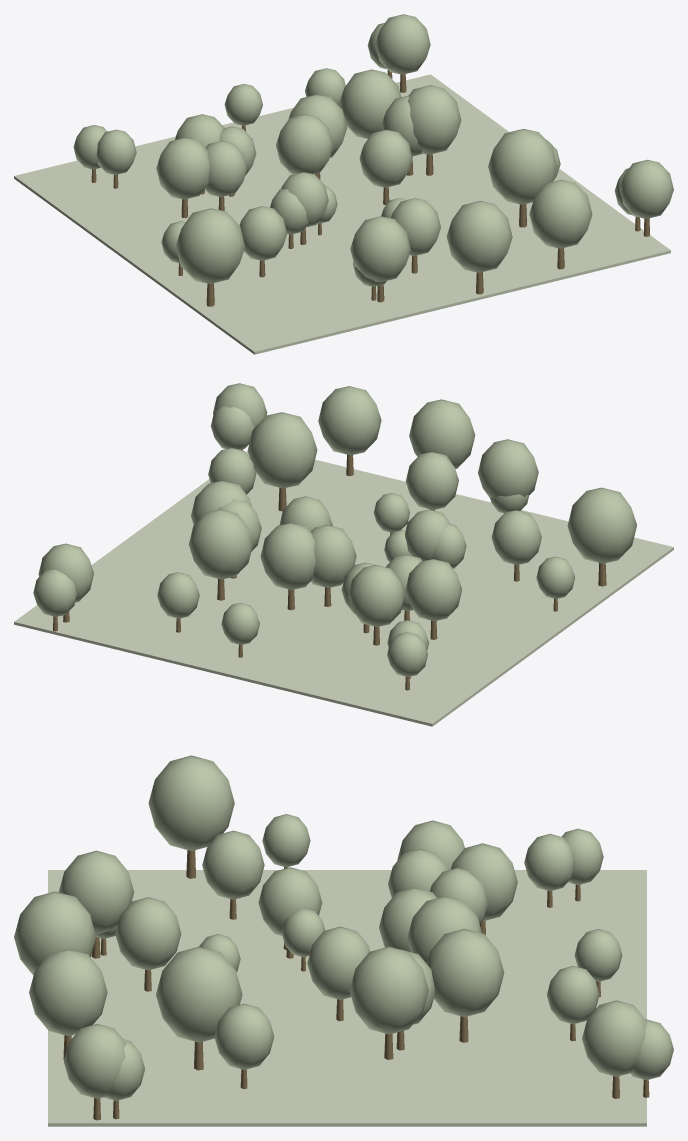
The picture shows the model from 3 angles, top to bottom: view 1: azimuth 30°, elevation 25°; view 2: azimuth 150°, elevation 25°; view 3: azimuth 270°, elevation 25°; orthographic projection. The views are drawn at different scales.
Parts seen in each view (by area): view 1: terrain, lod-near-23, lod-near-5, lod-near-17, lod-near-7, lod-near-25, lod-near-30, lod-near-20, lod-near-26, lod-near-19, lod-near-28, lod-near-3 (+15 smaller); view 2: terrain, lod-near-5, lod-near-23, lod-near-30, lod-near-7, lod-near-17, lod-near-11, lod-near-25, lod-near-19, lod-near-6, lod-near-14, lod-near-26 (+20 smaller); view 3: terrain, lod-near-23, lod-near-5, lod-near-20, lod-near-30, lod-near-7, lod-near-17, lod-near-25, lod-near-28, lod-near-14, lod-near-3, lod-near-27 (+18 smaller).
Boxes of the visible parts, bbox=[...] form: terrain: bbox=[14, 74, 670, 354]; lod-near-23: bbox=[176, 208, 244, 283]; lod-near-5: bbox=[488, 129, 557, 204]; lod-near-17: bbox=[446, 201, 512, 272]; lod-near-7: bbox=[529, 179, 592, 248]; lod-near-25: bbox=[350, 216, 410, 282]; lod-near-30: bbox=[339, 69, 401, 138]; lod-near-20: bbox=[408, 85, 461, 154]; lod-near-26: bbox=[276, 114, 333, 174]; lod-near-19: bbox=[156, 137, 209, 199]; lod-near-28: bbox=[375, 14, 430, 74]; lod-near-3: bbox=[619, 159, 673, 218]; terrain: bbox=[14, 451, 673, 726]; lod-near-5: bbox=[247, 412, 317, 488]; lod-near-23: bbox=[567, 487, 636, 563]; lod-near-30: bbox=[189, 509, 252, 579]; lod-near-7: bbox=[318, 386, 381, 455]; lod-near-17: bbox=[409, 399, 475, 468]; lod-near-11: bbox=[260, 523, 315, 589]; lod-near-25: bbox=[478, 439, 538, 498]; lod-near-19: bbox=[405, 559, 462, 621]; lod-near-6: bbox=[348, 565, 404, 626]; lod-near-14: bbox=[405, 452, 458, 509]; lod-near-26: bbox=[310, 525, 356, 587]; terrain: bbox=[48, 870, 646, 1126]; lod-near-23: bbox=[148, 755, 234, 850]; lod-near-5: bbox=[156, 946, 242, 1042]; lod-near-20: bbox=[349, 946, 428, 1034]; lod-near-30: bbox=[427, 928, 504, 1017]; lod-near-7: bbox=[29, 949, 107, 1036]; lod-near-17: bbox=[14, 891, 95, 975]; lod-near-25: bbox=[59, 850, 134, 934]; lod-near-28: bbox=[582, 1000, 646, 1076]; lod-near-14: bbox=[115, 897, 181, 970]; lod-near-3: bbox=[63, 1024, 126, 1098]; lod-near-27: bbox=[202, 830, 264, 899].
Size of the model in its own units: 34.72 by 7.31 by 35.26.
